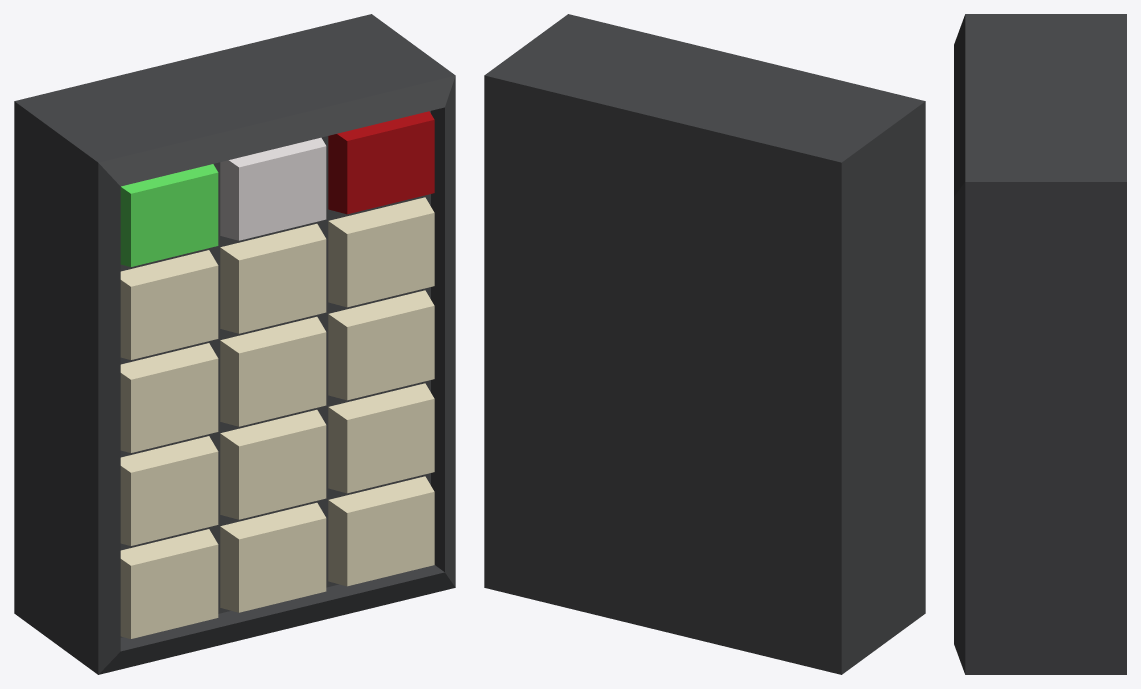
Rendered from NumPad.fbx.
3 renders of one model, left to right at view 1: azimuth 30°, elevation 25°; view 2: azimuth 150°, elevation 25°; view 3: azimuth 270°, elevation 25°, orthographic. The views are drawn at different scales.
Parts seen in each view (by area): view 1: Cube; view 2: Cube; view 3: Cube.
Part boxes in pixels (x1,y1,x2,y2): Cube: (14,14,455,674); Cube: (484,14,925,674); Cube: (954,14,1126,674).
Bounding box in the file's own units: 6.27 × 8.59 × 2.73.
